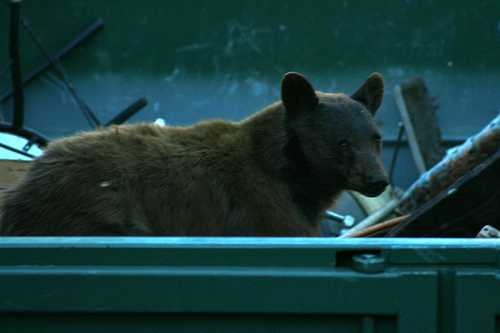bear: (271, 70, 399, 198)
